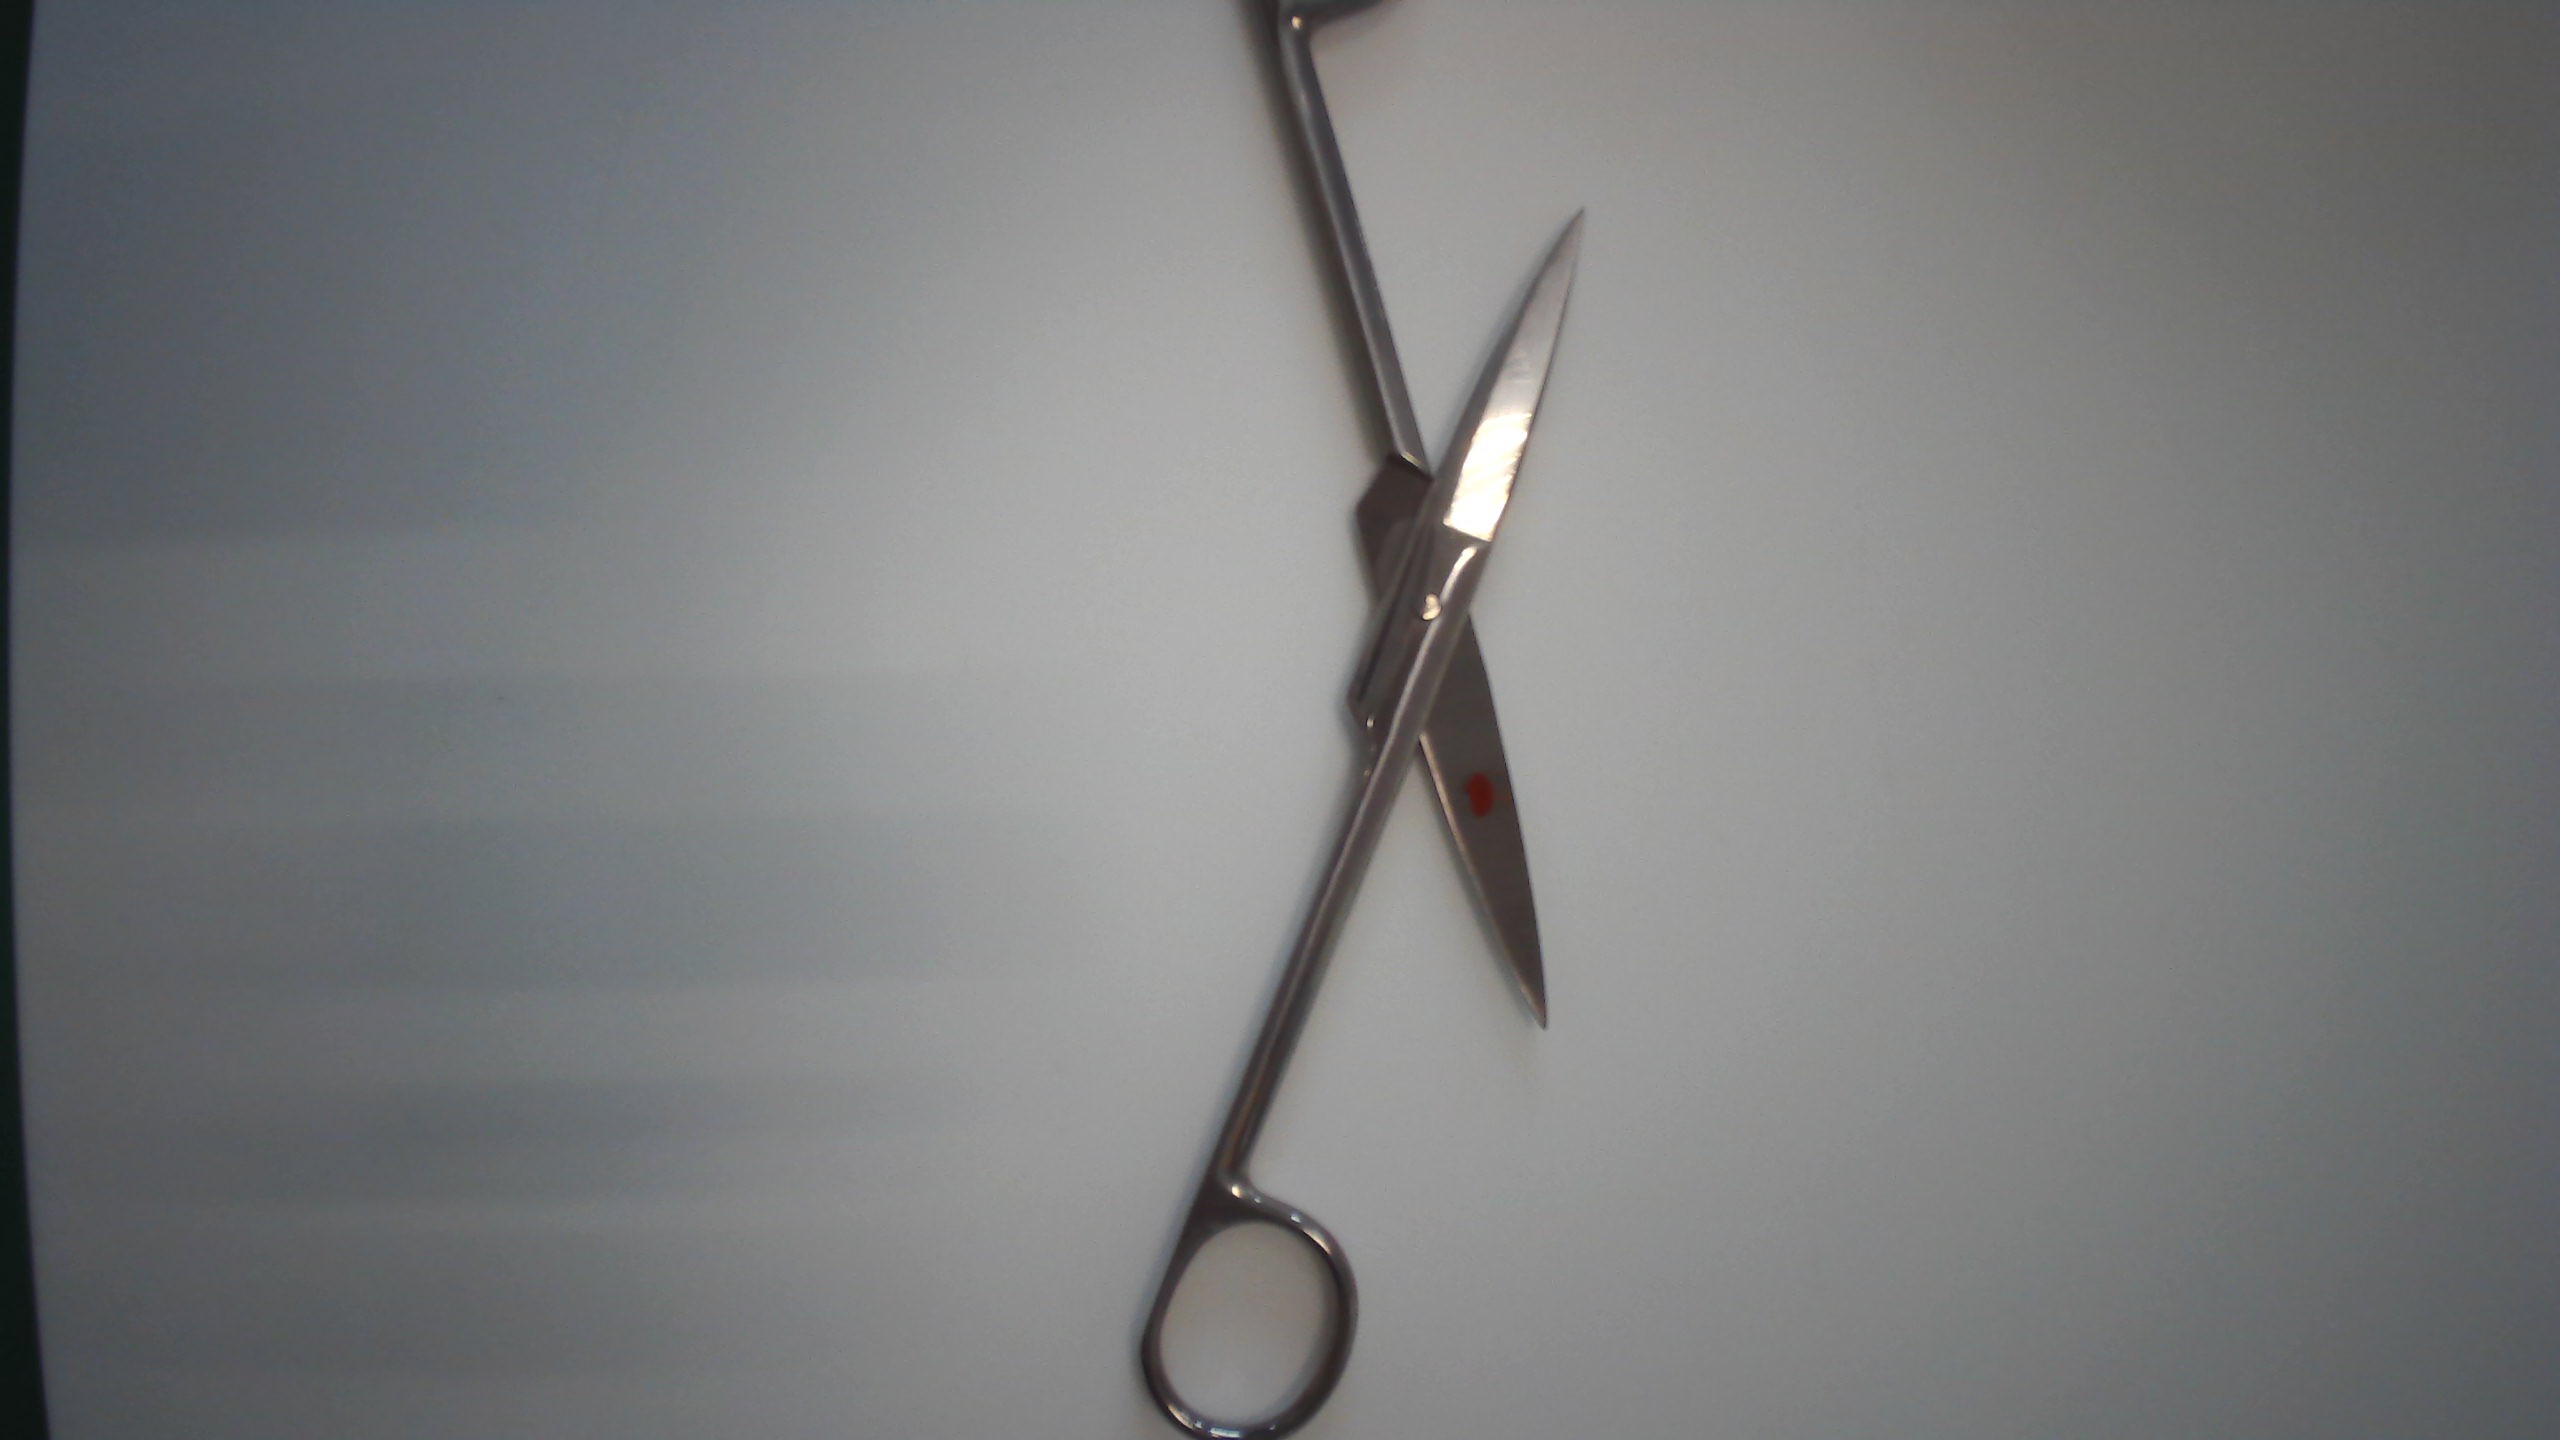Stain: (1452, 763, 1503, 828)
